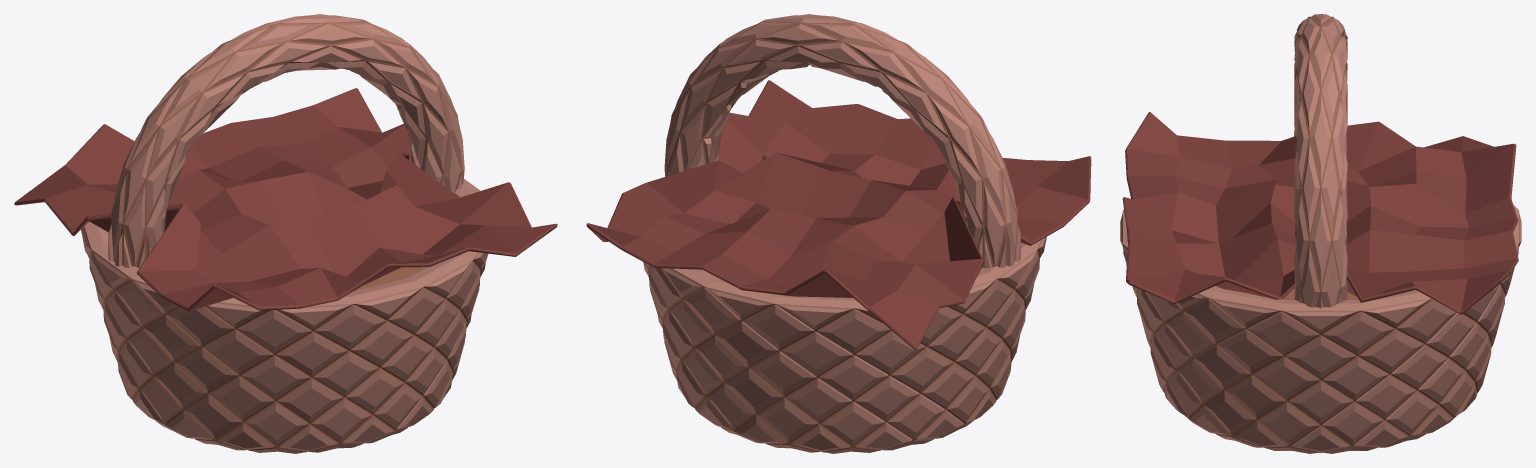
The model's file is basket2.fbx.
The picture shows the model from 3 angles, left to right: view 1: azimuth 30°, elevation 25°; view 2: azimuth 150°, elevation 25°; view 3: azimuth 270°, elevation 25°; orthographic projection. The views are drawn at different scales.
Visible parts, largest first — view 1: Plane; view 2: Plane; view 3: Plane.
Part boxes in pixels (bbox=[...]): Plane: bbox=[14, 14, 557, 453]; Plane: bbox=[586, 14, 1091, 453]; Plane: bbox=[1120, 14, 1521, 453].
Size of the model in its own units: 330 by 341 by 330.
